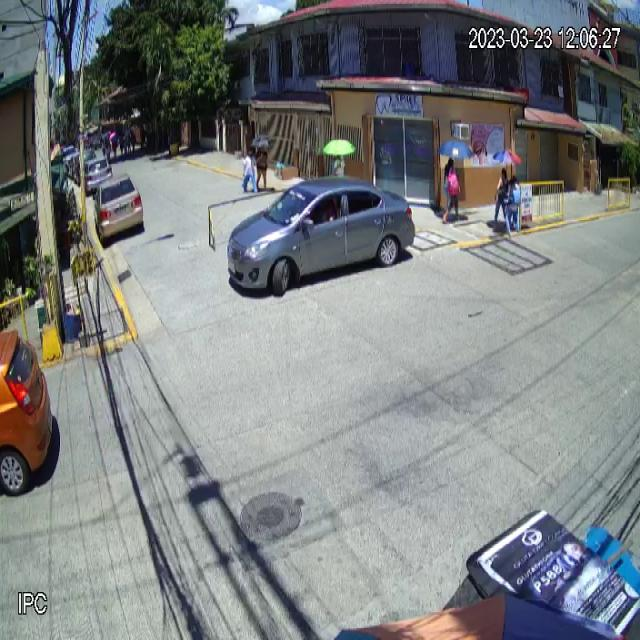Car: (227, 175, 416, 297)
